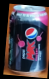pepsi: (8, 4, 47, 75)
